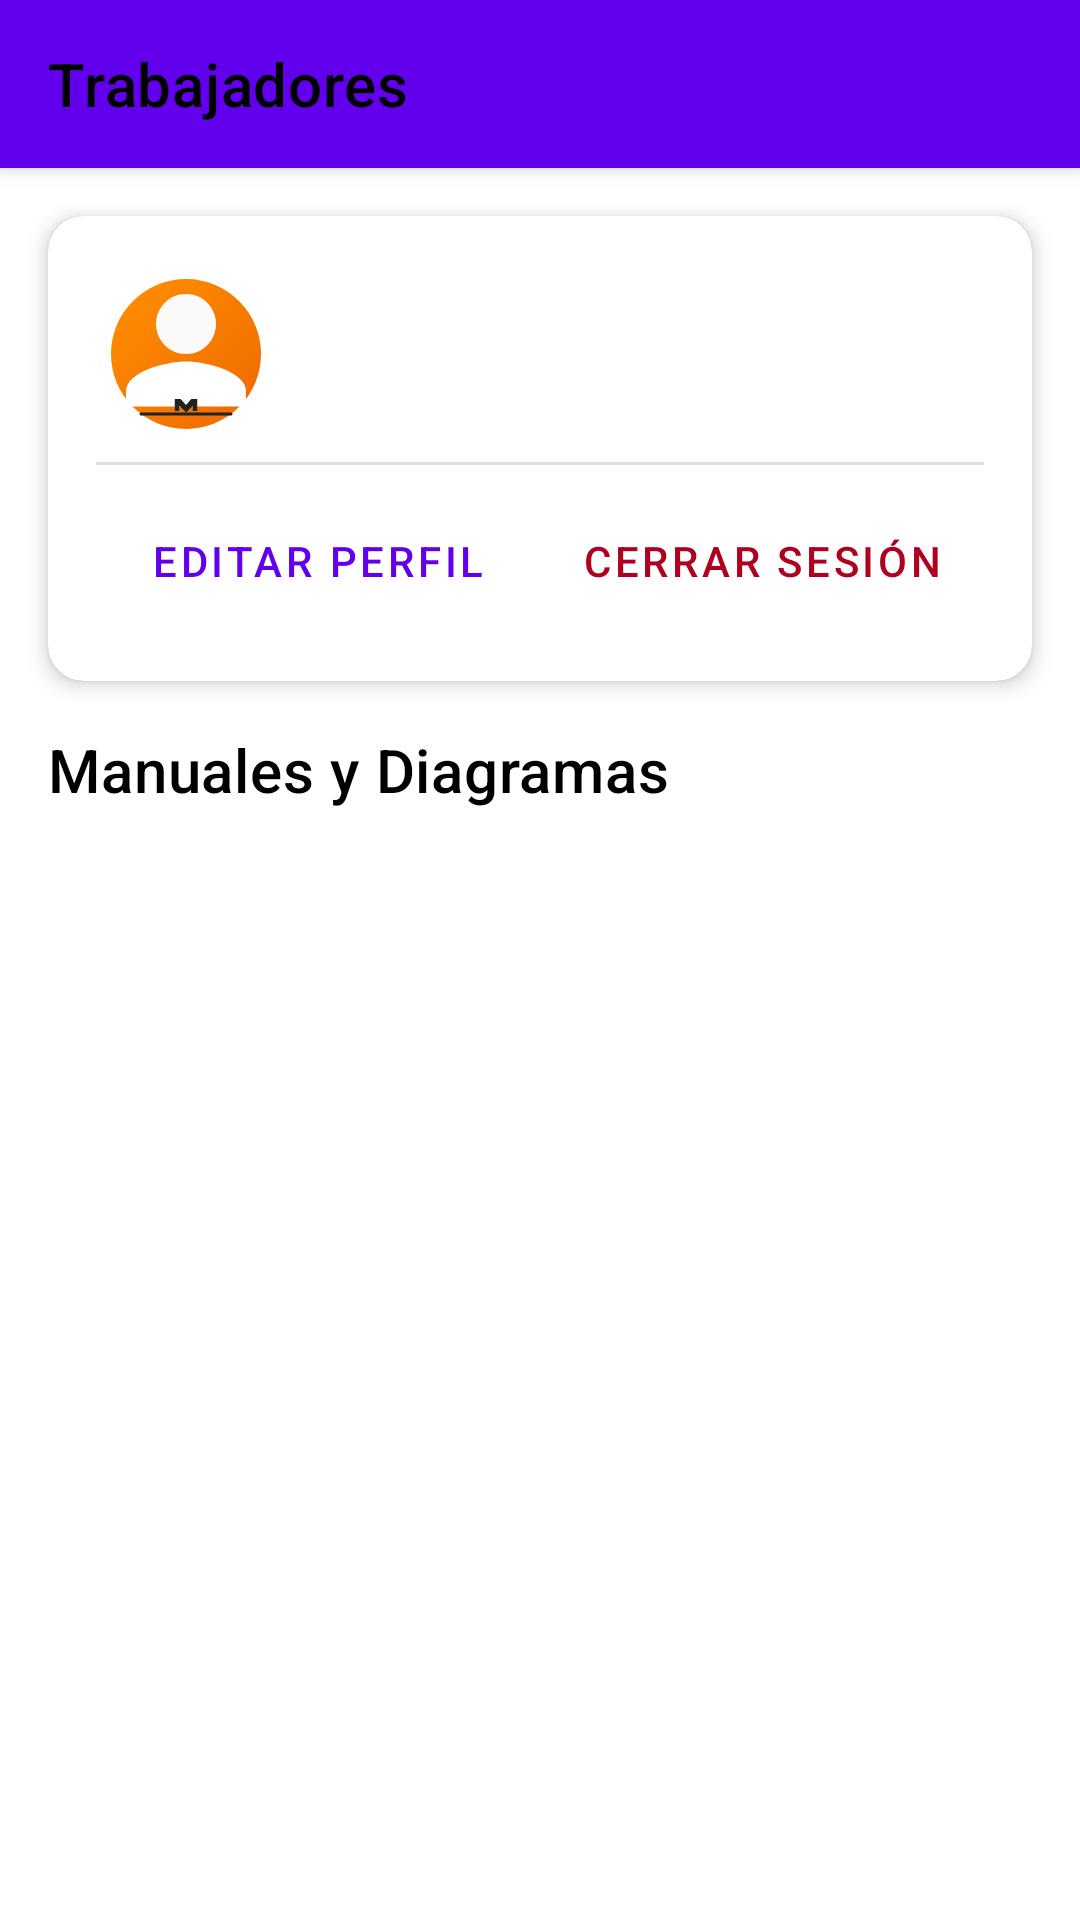

Point at icon controls on the screen. Image size 1080×1920, points as (x=x, y=y).
Icono de perfil de usuario: (x=186, y=354)
